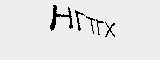Г: (74, 7, 88, 31), (96, 16, 105, 40)
Н: (49, 5, 71, 31)
Т: (86, 16, 98, 37)
Х: (103, 20, 120, 39)
